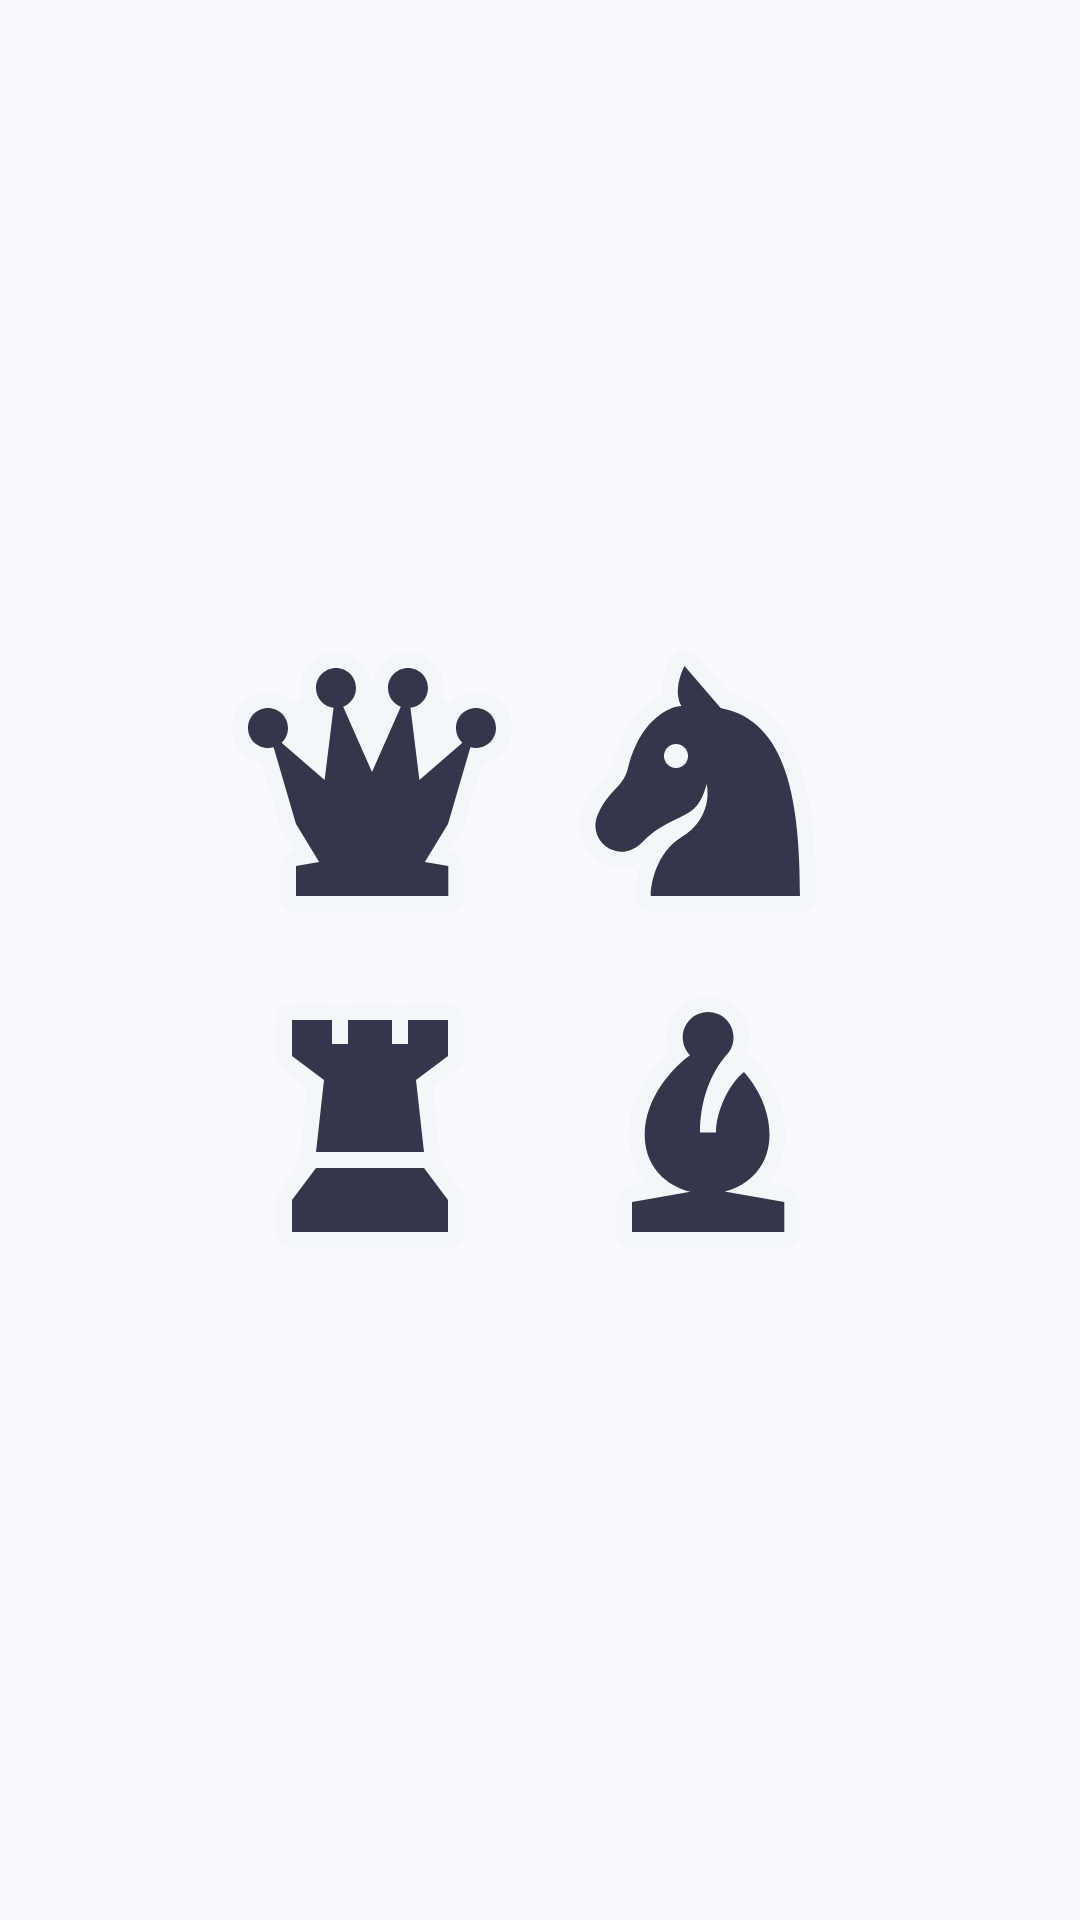

Where icons sit on this 1080 × 1920 app screen, as (x1, y1, x2, y2):
bishop: (632, 1012, 785, 1232)
knight: (595, 666, 800, 896)
queen: (248, 668, 496, 896)
rook: (292, 1020, 448, 1232)
